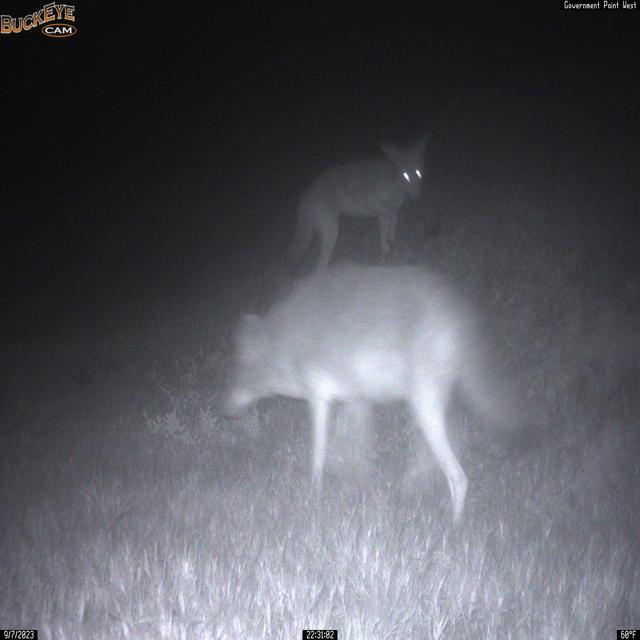coyote: (220, 262, 538, 533)
